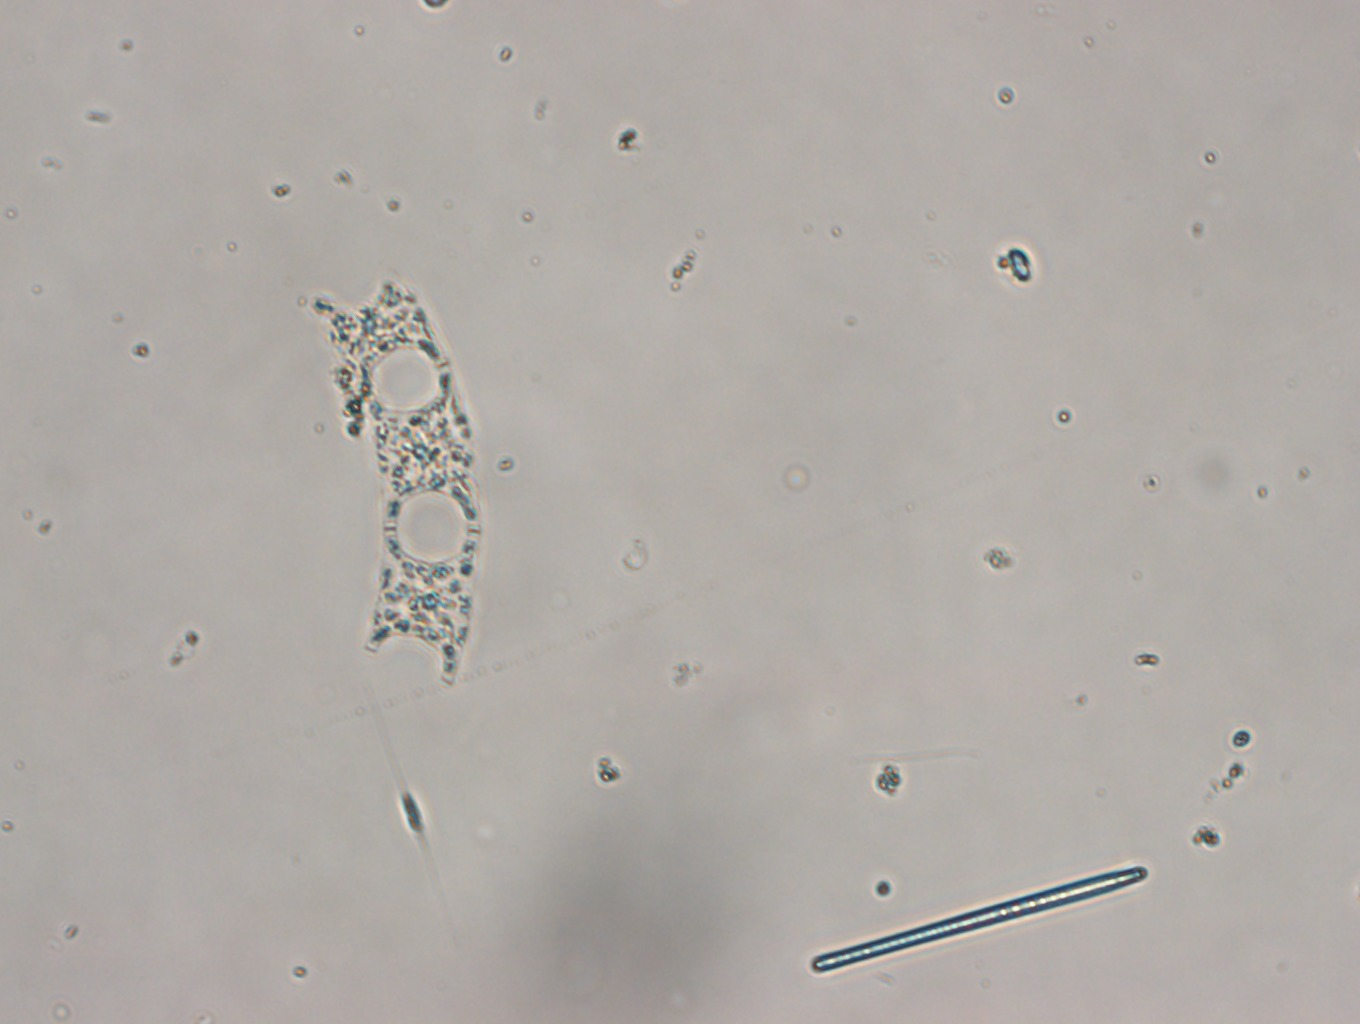eucampia: (306, 289, 488, 673)
